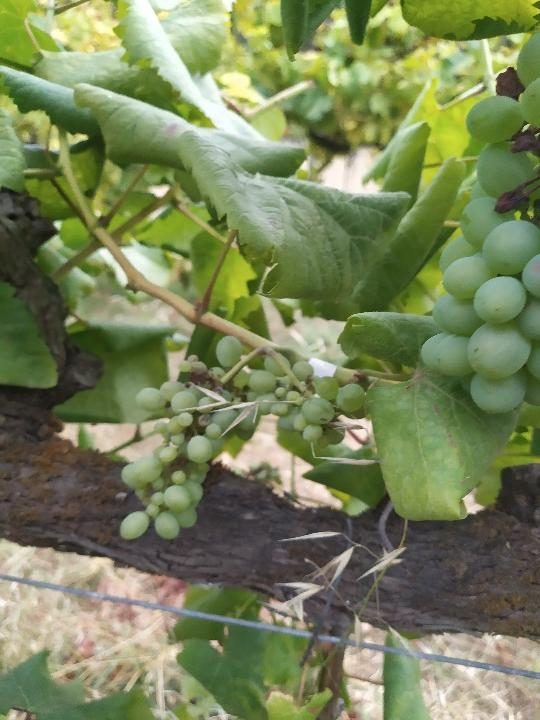grape: (112, 334, 365, 546)
